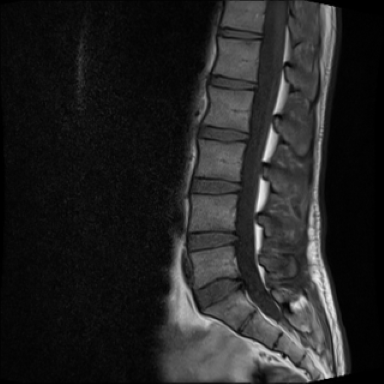Lumbar Disc Bulge (LDB): (183, 224, 242, 252)
Normal IVD: (190, 272, 246, 317), (185, 172, 242, 197), (194, 121, 250, 144), (201, 72, 259, 94), (218, 25, 264, 42)
Spinal Stenosis (SS): (230, 228, 240, 244)
